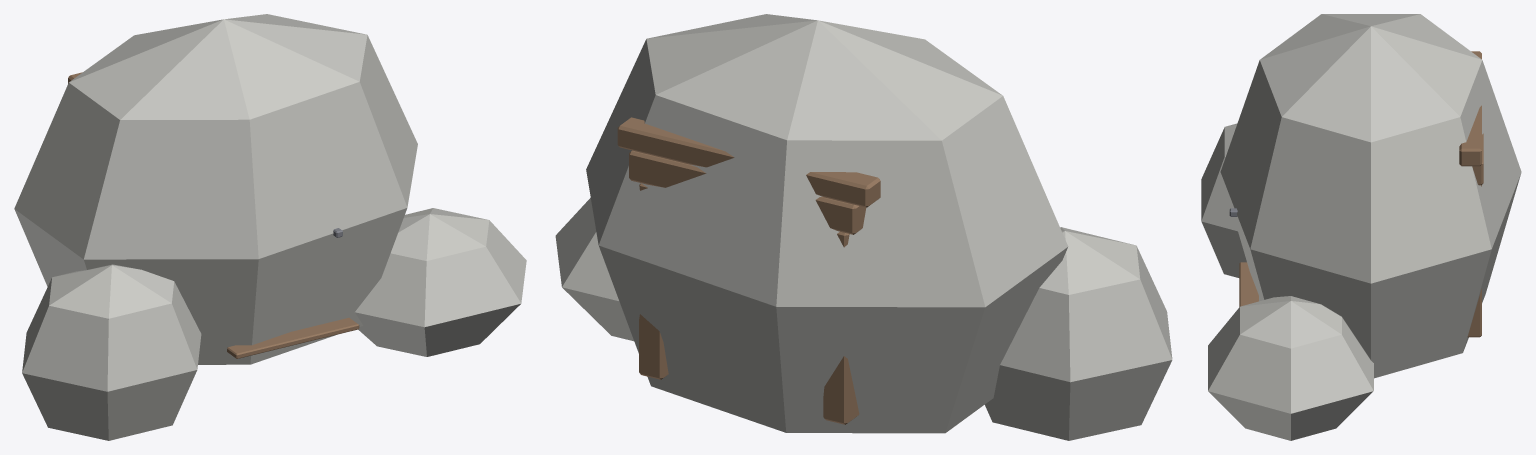
File: town_mine_entrance.glb
3 views of the same model, side by side, from view 1: azimuth 30°, elevation 25°; view 2: azimuth 150°, elevation 25°; view 3: azimuth 270°, elevation 25° (orthographic). The views are drawn at different scales.
Parts seen in each view (by area): view 1: world; view 2: world; view 3: world.
Part boxes in pixels (x1,y1,x2,y2): world: (14,14,526,440); world: (555,14,1172,440); world: (1201,14,1521,440).
Size of the model in its own units: 2 by 1.29 by 1.13.
